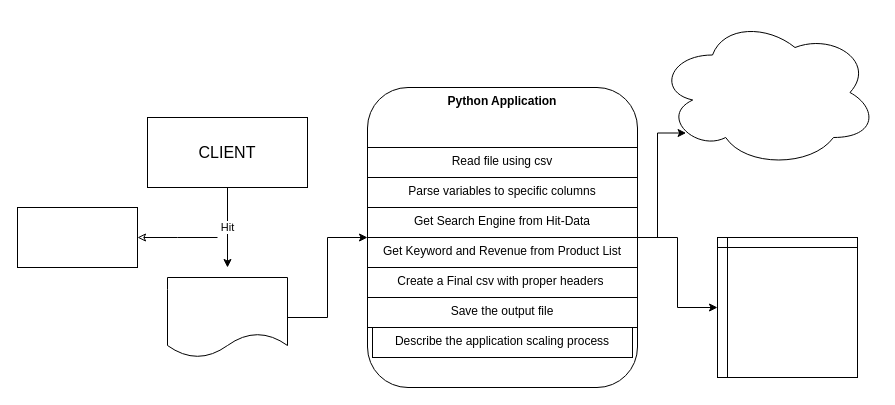
Image size: 895x405. Some labels were removed from this diagram. The centre of each missing label's shape, as x and y in pixels:
Adobe Analytics: [77,237]
Deploy on AWS (Free Tier): [767,92]
Documentation on Github: [787,307]
TAB Separated Text File: [227,317]
